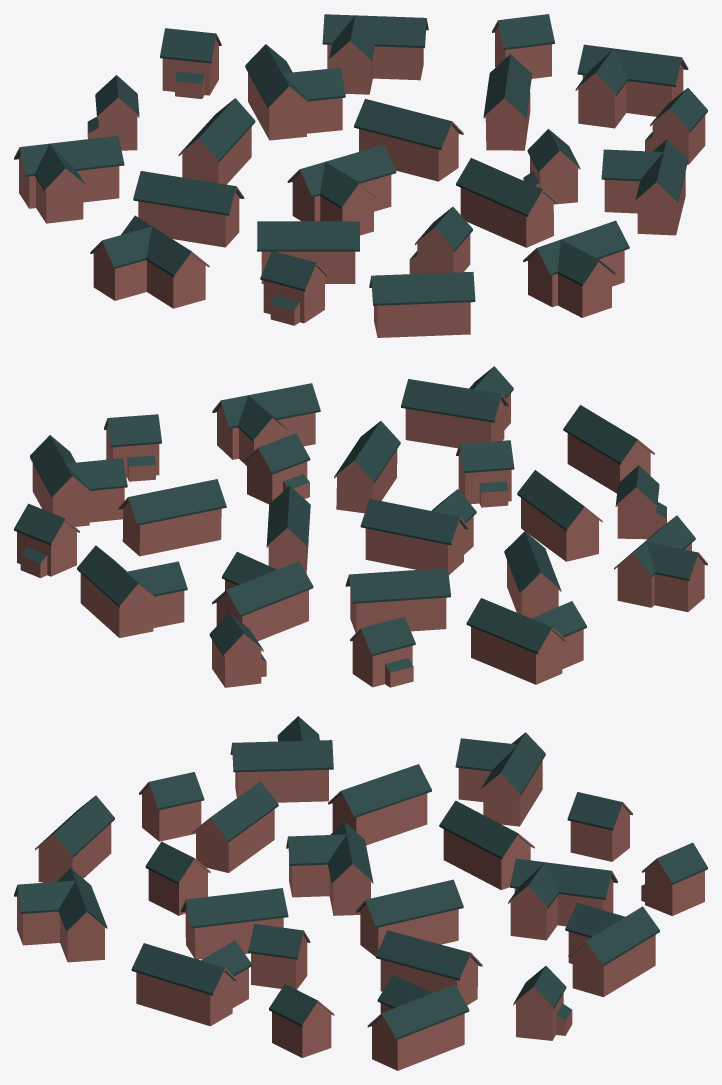
Rendered from Town_Prototype.fbx.
The picture shows the model from 3 angles, top to bottom: view 1: azimuth 30°, elevation 25°; view 2: azimuth 150°, elevation 25°; view 3: azimuth 270°, elevation 25°; orthographic projection. The views are drawn at different scales.
Visible parts, largest first — view 1: Cube.043; view 2: Cube.043; view 3: Cube.043.
Part boxes in pixels (x1,y1,x2,y2): Cube.043: [14, 14, 707, 337]; Cube.043: [14, 366, 707, 687]; Cube.043: [14, 716, 707, 1070].
Bounding box in the file's own units: 3.72 × 0.3093 × 3.59.
